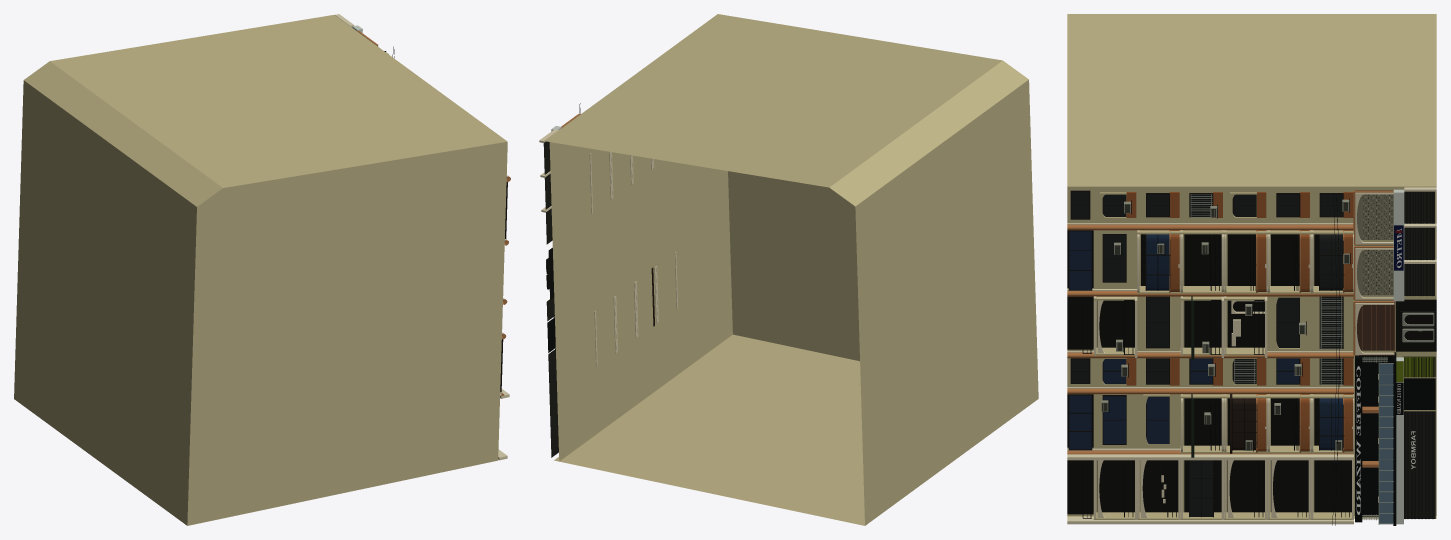
The model's file is SM_Metro.obj.
The picture shows the model from 3 angles, left to right: view 1: azimuth 30°, elevation 25°; view 2: azimuth 150°, elevation 25°; view 3: azimuth 270°, elevation 25°; orthographic projection. The views are drawn at different scales.
Visible parts, largest first — view 1: part_7_0; view 2: part_7_0, part_8_0, part_56_4; view 3: part_7_0, part_9_0, part_56_4, part_53_0, part_14_0, part_54_0, part_8_0, part_22_15, part_38_0, part_27_25, part_38_3, part_22_16 (+64 smaller).
Part boxes in pixels (x1=…): part_7_0: x1=14, y1=14, x2=507, y2=525; part_7_0: x1=544, y1=14, x2=1038, y2=525; part_8_0: x1=589, y1=151, x2=677, y2=367; part_56_4: x1=548, y1=349, x2=558, y2=457; part_7_0: x1=1067, y1=14, x2=1436, y2=518; part_9_0: x1=1170, y1=230, x2=1352, y2=451; part_56_4: x1=1404, y1=411, x2=1435, y2=518; part_53_0: x1=1359, y1=355, x2=1393, y2=516; part_14_0: x1=1146, y1=234, x2=1342, y2=450; part_54_0: x1=1379, y1=363, x2=1393, y2=523; part_8_0: x1=1137, y1=230, x2=1353, y2=451; part_22_15: x1=1314, y1=460, x2=1351, y2=512; part_38_0: x1=1067, y1=224, x2=1353, y2=230; part_27_25: x1=1067, y1=454, x2=1353, y2=460; part_38_3: x1=1067, y1=388, x2=1353, y2=394; part_22_16: x1=1271, y1=460, x2=1308, y2=512.
Size of the model in its own units: 2924 by 2856 by 2640.
Materials: 27 (4 with a texture image).
